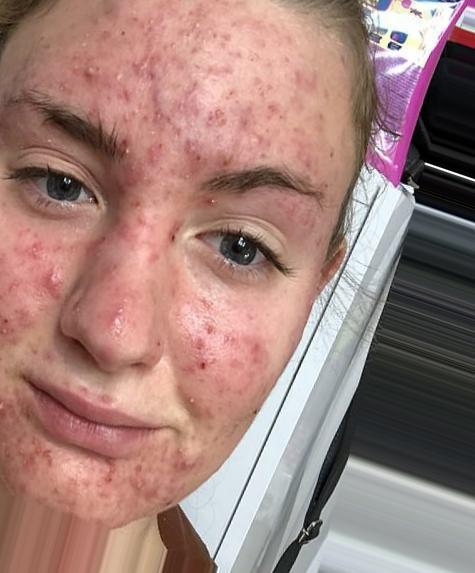Acne: (0, 233, 61, 342), (191, 325, 281, 392), (7, 399, 54, 482), (165, 121, 232, 174), (239, 97, 308, 144), (151, 75, 202, 134), (73, 63, 134, 97), (173, 437, 208, 465)
